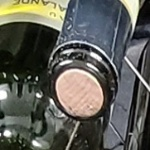bottle: (36, 35, 135, 140)
